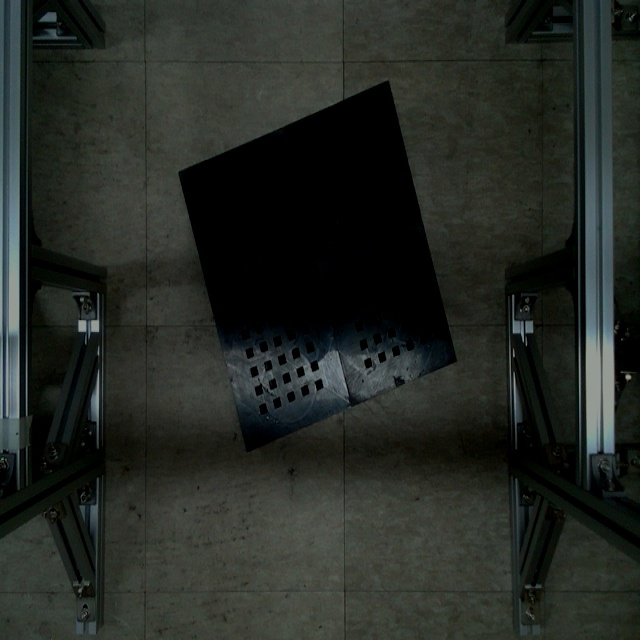pallet: (170, 74, 466, 459)
